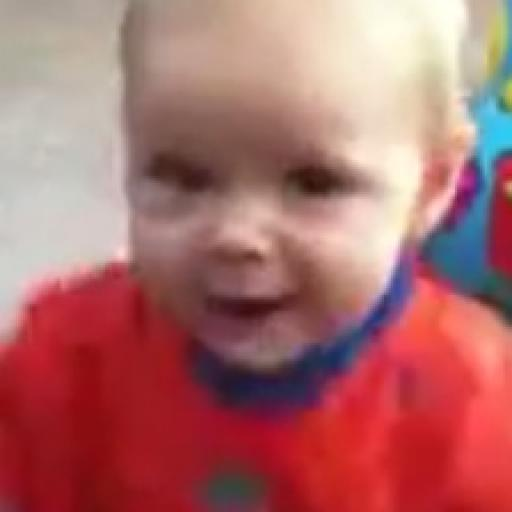Autism: (100, 2, 486, 388)
